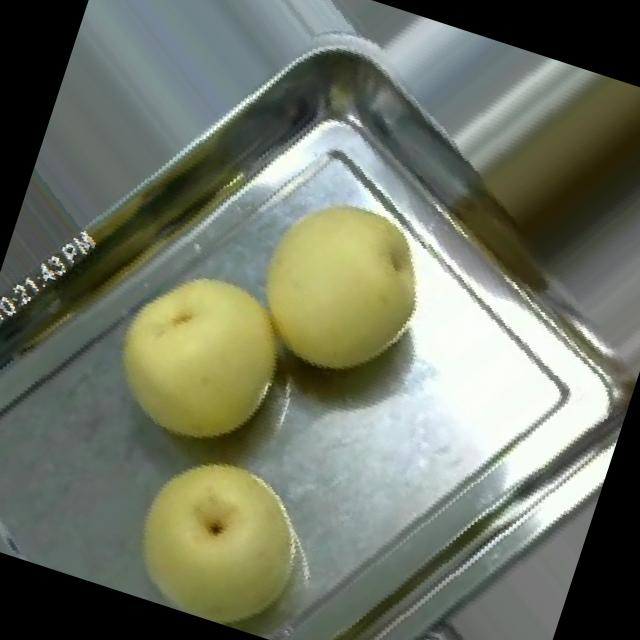Fruit: (218, 160, 460, 412), (72, 232, 318, 478), (103, 420, 341, 640)
